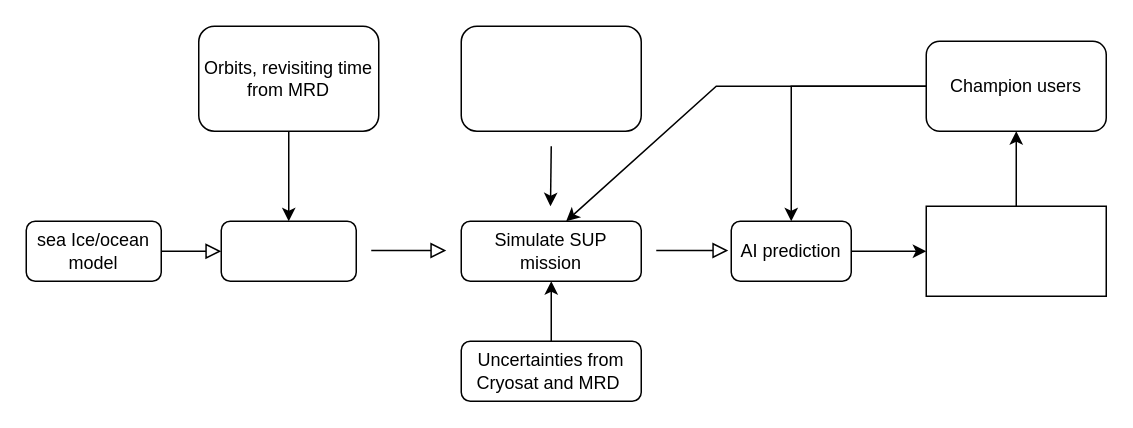
Image size: 1133x428. Some labels were removed from this diagram. The shapes that lost their labels are listed below. From the top down, each one's box as (x1, y1, x2, y2) in pixels, then its label:
(460, 25, 641, 131): Uncertainties from existing ASIP and MRD
(220, 220, 356, 281): Extract level 2 data
(925, 205, 1106, 296): Validation and benchmark
